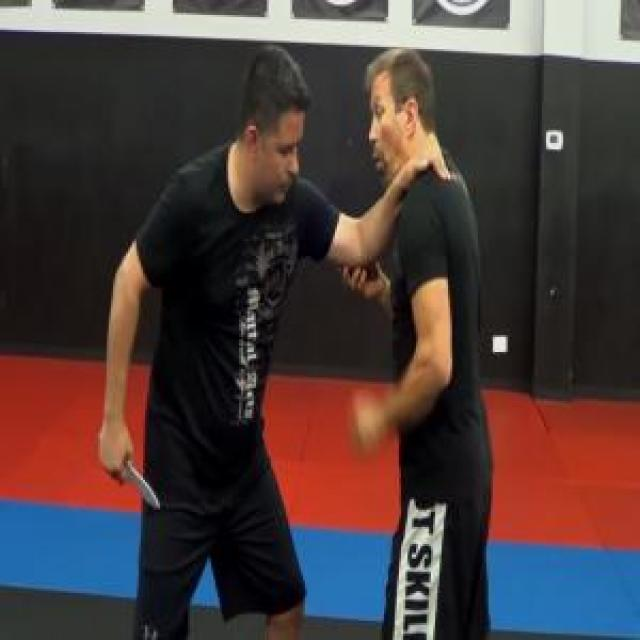knife: (96, 431, 160, 513)
